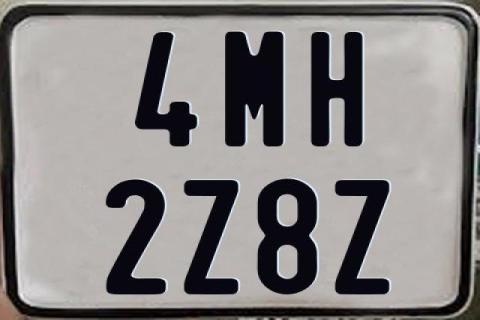0: (254, 177, 320, 297), (106, 179, 171, 297), (134, 29, 198, 145)
H: (311, 30, 366, 146)
M: (224, 31, 286, 147)
Z: (183, 180, 238, 298), (332, 178, 387, 292)
